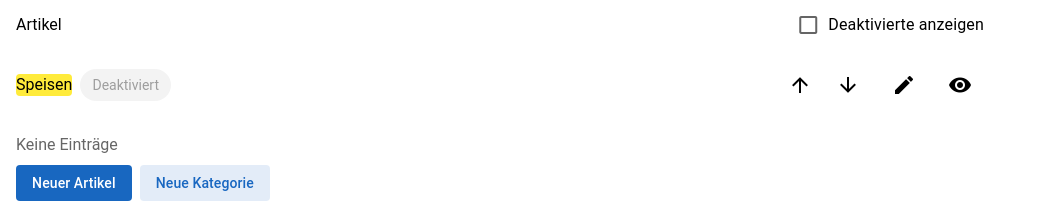
Test: a category that is switched off › offers to switch it on again through the open eye, named "Kategorie aktivieren"
Hover over the button with test id "activate-category" at {"x": 960, "y": 85}, box x1=936 y1=61 x2=984 y2=109
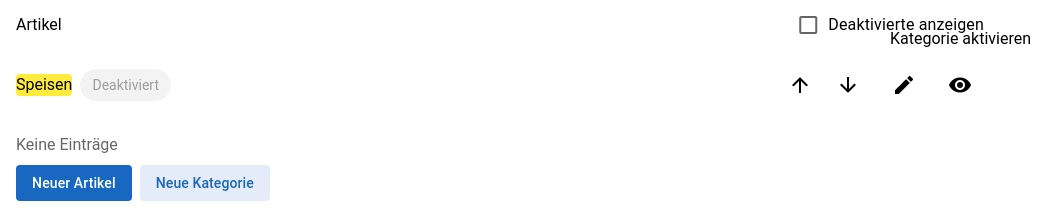
Now the text "Kategorie aktivieren" is shown, box x1=890 y1=27 x2=1031 y2=51
